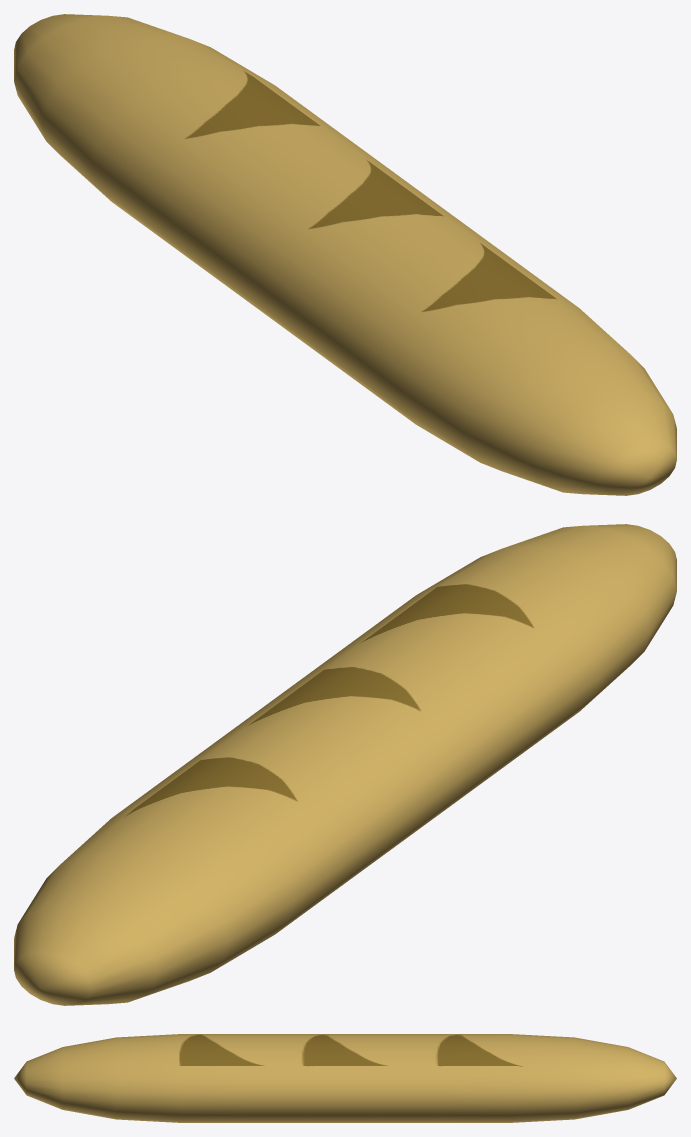
Rendered from Bread.obj.
3 renders of one model, top to bottom at view 1: azimuth 30°, elevation 25°; view 2: azimuth 150°, elevation 25°; view 3: azimuth 270°, elevation 25°, orthographic. The views are drawn at different scales.
Visible parts, largest first — view 1: pCylinder1; view 2: pCylinder1; view 3: pCylinder1.
Boxes of the visible parts, box(x1,y1,x2,y2) form: pCylinder1: box(14, 14, 676, 495); pCylinder1: box(14, 524, 676, 1005); pCylinder1: box(14, 1034, 676, 1122).
Bounding box in the file's own units: 0.9974 × 0.6121 × 5.2.
